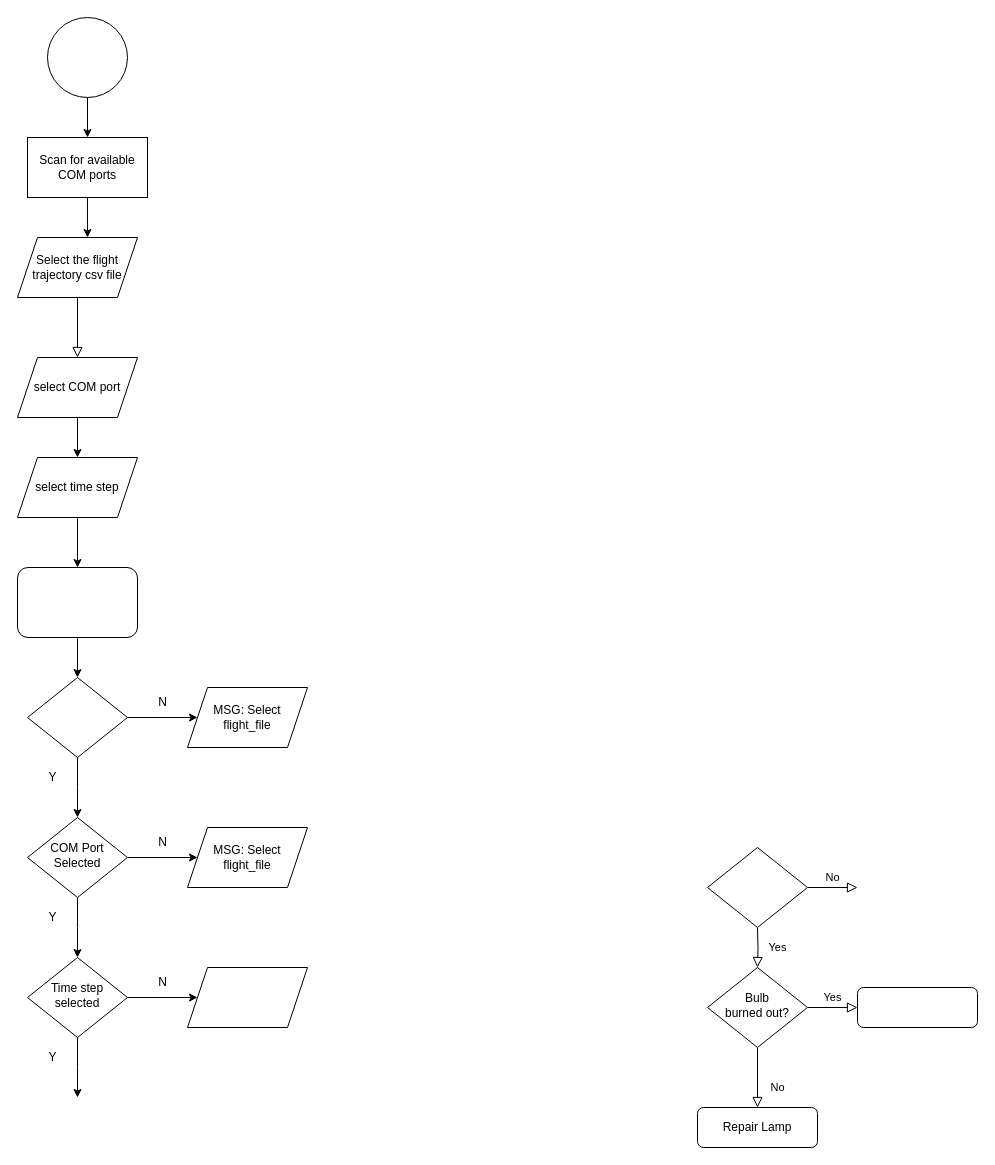
This 995x1165 diagram has some shape labels left out. The shapes that lost their labels are listed below. From the top down, each one's centre as x and y in pixels, then its label:
the point at 87,57: Start
the point at 77,602: RUN
the point at 77,717: flight_file selected?
the point at 247,997: Set default time step to 1 sec
the point at 917,1007: Replace Bulb
